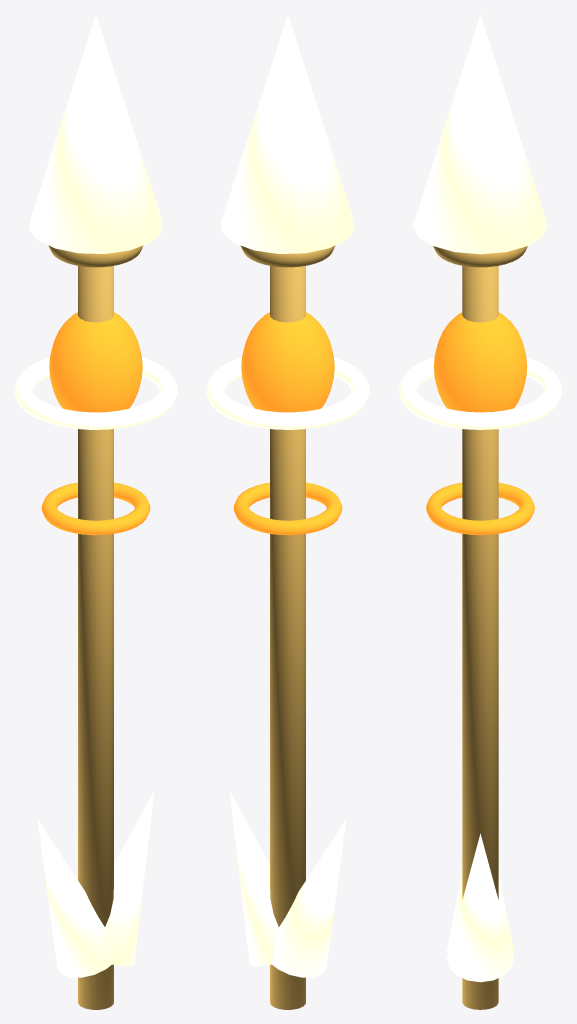
The model's file is SolarArrowModel.fbx.
3 views of the same model, side by side, from view 1: azimuth 30°, elevation 25°; view 2: azimuth 150°, elevation 25°; view 3: azimuth 270°, elevation 25° (orthographic).
Visible parts, largest first — view 1: Apollo Arrow Shaft, Solar Arrowhead, Solar Core, Golden Arrow Fletching, Solar Ring One, Golden Arrow Fletching.002, Solar Ring Two, Arrowhead Collar; view 2: Apollo Arrow Shaft, Solar Arrowhead, Solar Core, Golden Arrow Fletching, Solar Ring One, Golden Arrow Fletching.002, Solar Ring Two, Arrowhead Collar; view 3: Apollo Arrow Shaft, Solar Arrowhead, Solar Core, Golden Arrow Fletching.002, Solar Ring One, Solar Ring Two, Arrowhead Collar, Golden Arrow Fletching.
Boxes of the visible parts, x1,y1,x2,y2 form: Apollo Arrow Shaft: (78,266,113,1009); Solar Arrowhead: (29,15,162,253); Solar Core: (49,312,142,412); Golden Arrow Fletching: (37,819,111,977); Solar Ring One: (14,357,177,429); Golden Arrow Fletching.002: (105,791,154,966); Solar Ring Two: (41,482,150,535); Arrowhead Collar: (48,245,143,267); Apollo Arrow Shaft: (270,266,305,1009); Solar Arrowhead: (221,15,354,253); Solar Core: (241,312,334,412); Golden Arrow Fletching: (272,819,346,977); Solar Ring One: (206,357,369,429); Golden Arrow Fletching.002: (229,791,278,966); Solar Ring Two: (233,482,342,535); Arrowhead Collar: (240,245,335,267); Apollo Arrow Shaft: (462,266,498,1009); Solar Arrowhead: (413,14,547,254); Solar Core: (433,312,527,412); Golden Arrow Fletching.002: (446,833,514,982); Solar Ring One: (398,357,562,429); Solar Ring Two: (426,482,534,535); Arrowhead Collar: (433,246,527,267); Golden Arrow Fletching: (447,872,513,952).
Bounding box in the file's own units: 31.6 × 210 × 31.6.
